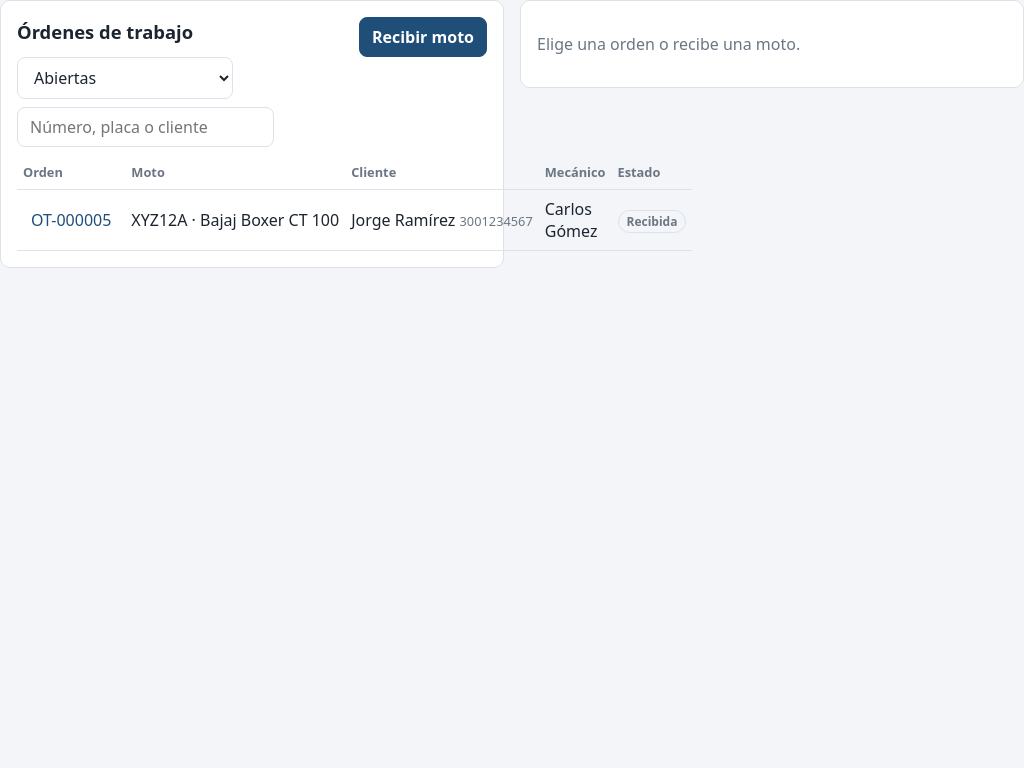
Test case: pantalla Órdenes › la ficha muestra la orden, asigna mecánico y deja la historia
Click the button "OT-000005".
click(71, 220)  # box 23,205 -> 119,235
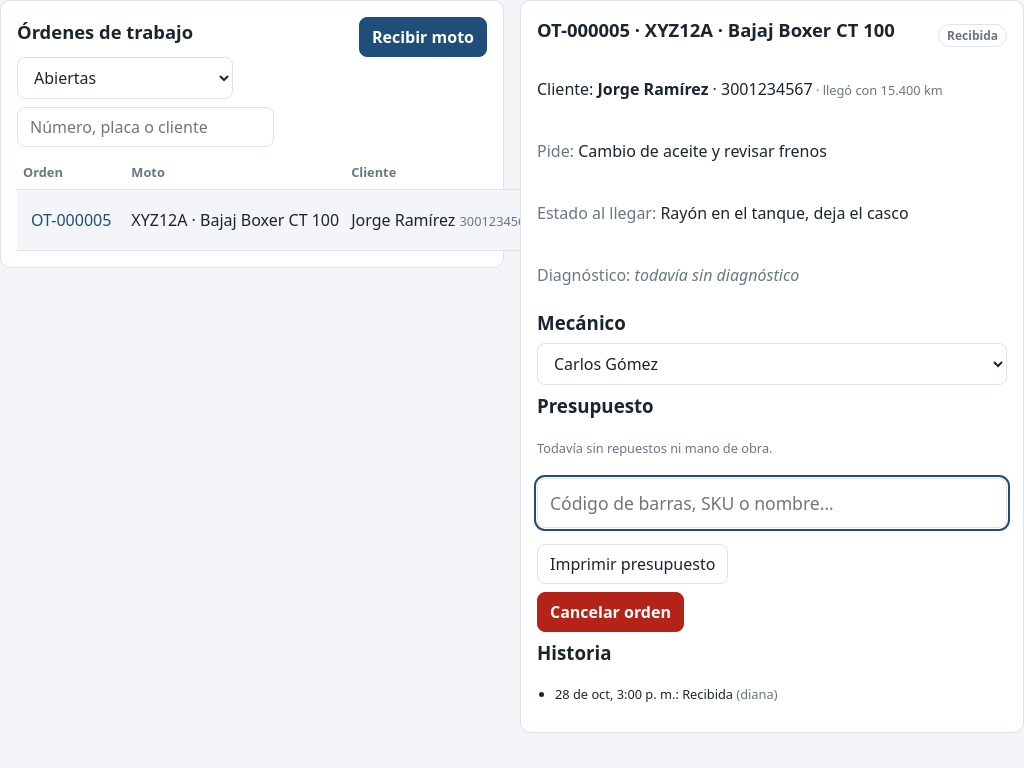
Check: the heading "OT-000005 · XYZ12A · Bajaj Boxer CT 100" is shown, box 537,17 -> 895,42
Check: the element that starts with "OT-000005" shows "Pide: Cambio de aceite y revisar frenos", box 520,0 -> 1023,733
Check: the element that starts with "OT-000005" shows "Estado al llegar: Rayón en el tanque, deja el casco", box 520,0 -> 1023,733
Select "Pablo" in the dropdown named "Mecánico asignado" at x=772, y=364, box 537,343 -> 1007,385
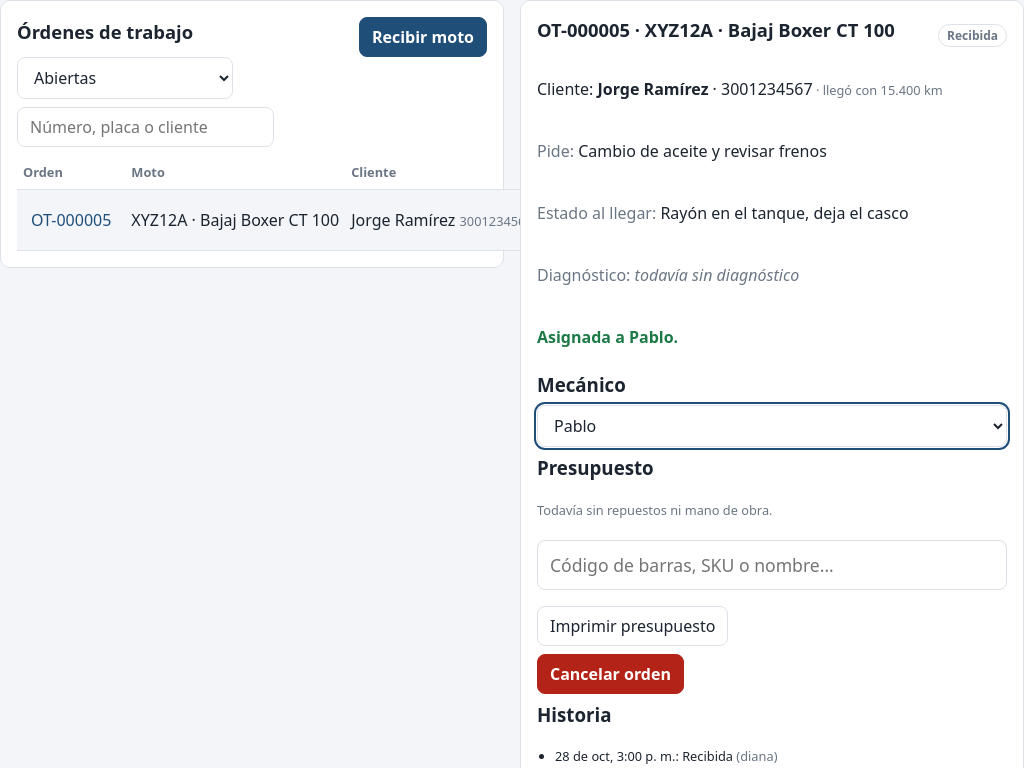
Check: the message reads "Asignada a Pablo.", box 537,326 -> 678,348
Select "Sin asignar" in the dropdown named "Mecánico asignado" at x=772, y=426, box 537,405 -> 1007,447
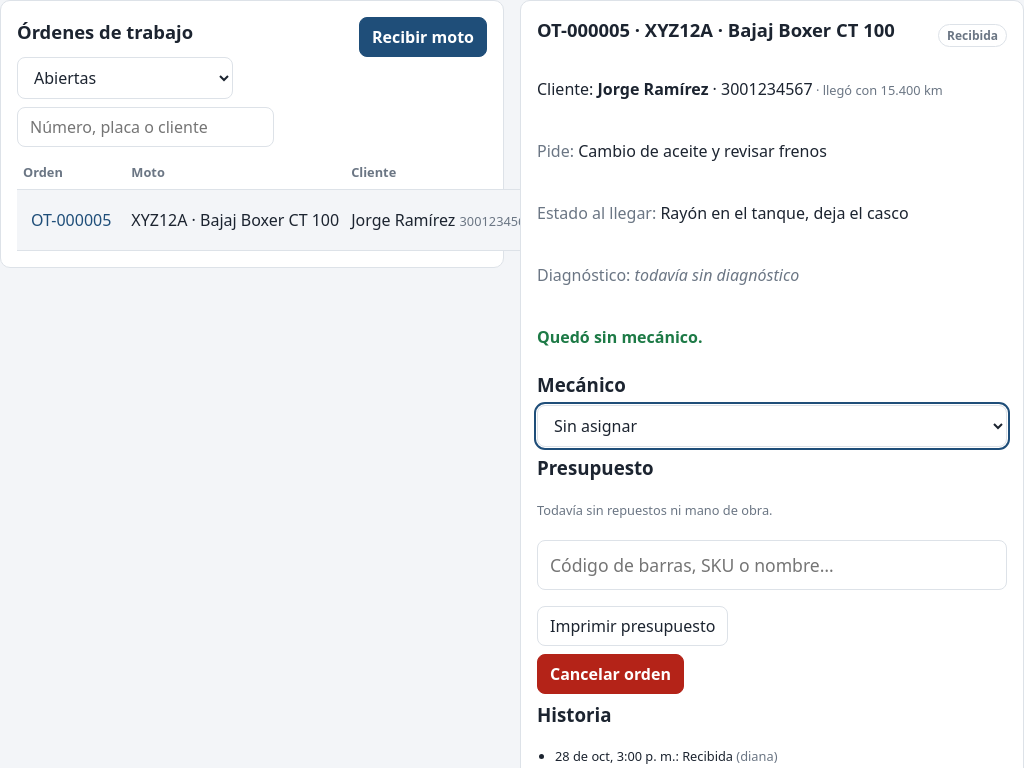
Check: the message reads "Quedó sin mecánico.", box 537,326 -> 702,348
